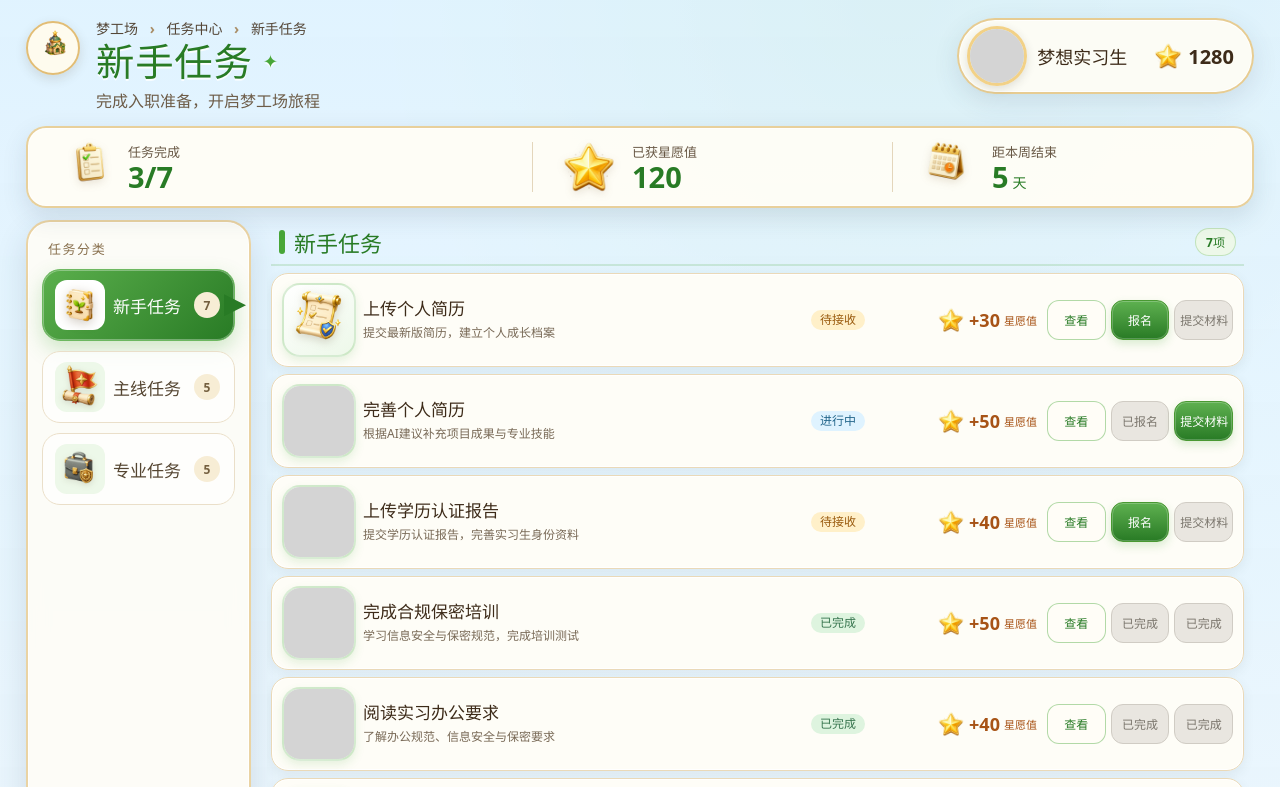
it: TaskCenterPage › submits task materials and marks an in-progress task as completed
Click the button "提交材料" in the row of "进行中".
click(1204, 421)  # box [1174,401,1233,441]
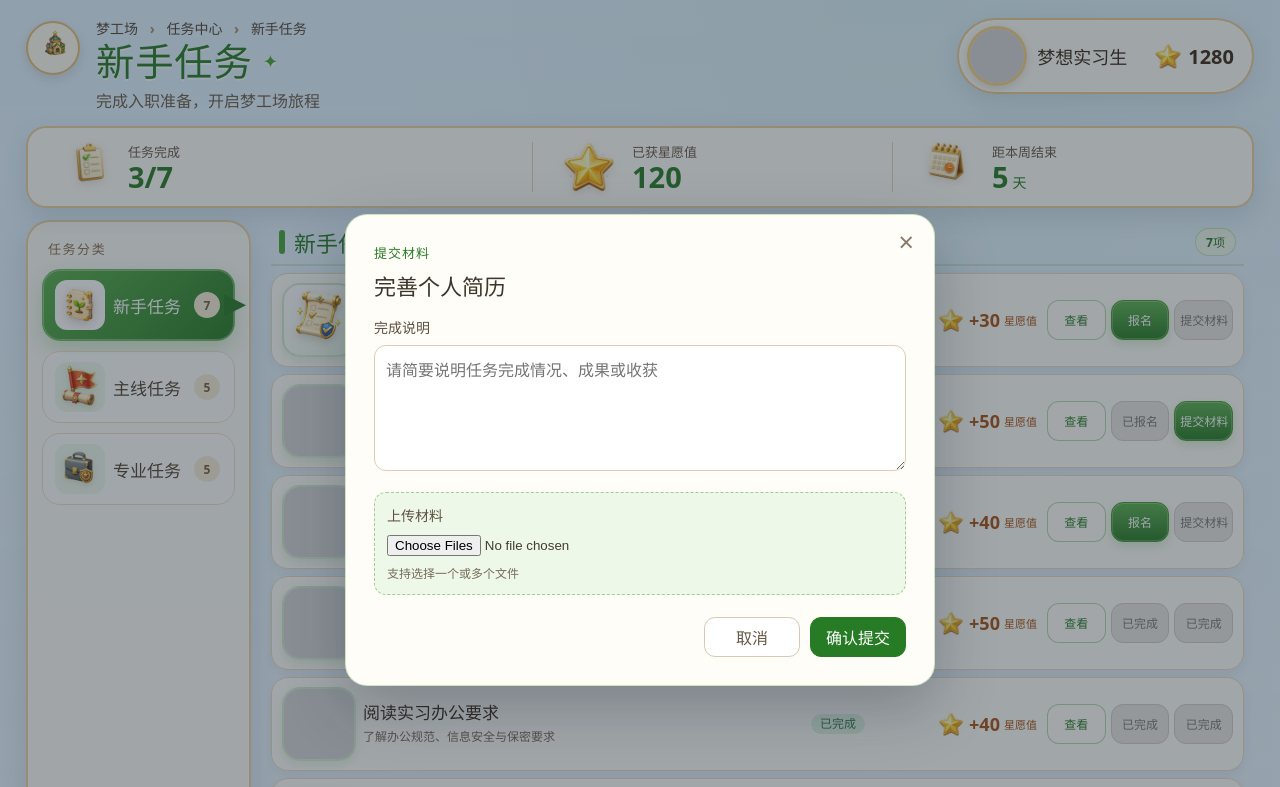
Type "已完成个人简历优化" into the text box labelled "完成说明".
click(640, 408); type("已完成个人简历优化")  # box [374,345,906,471]
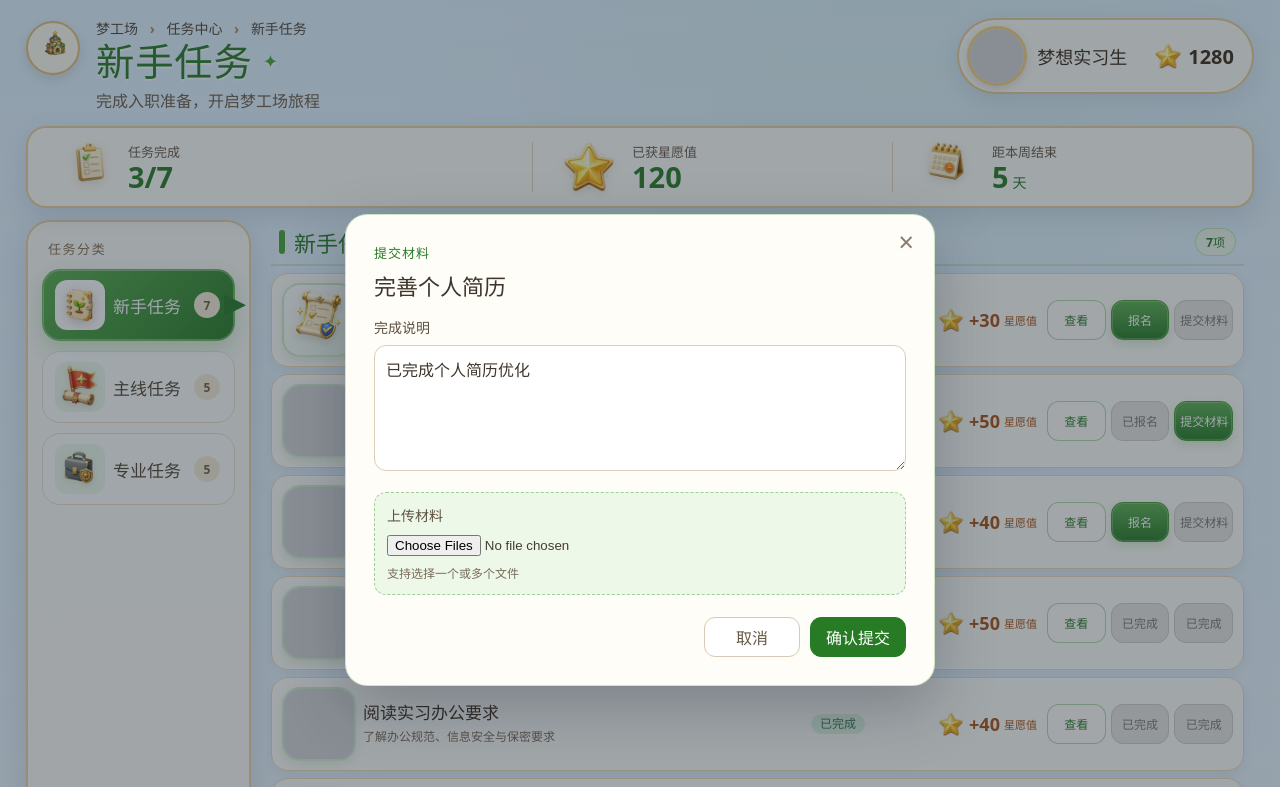
Click the button "确认提交".
click(858, 637)  # box [810,617,906,657]
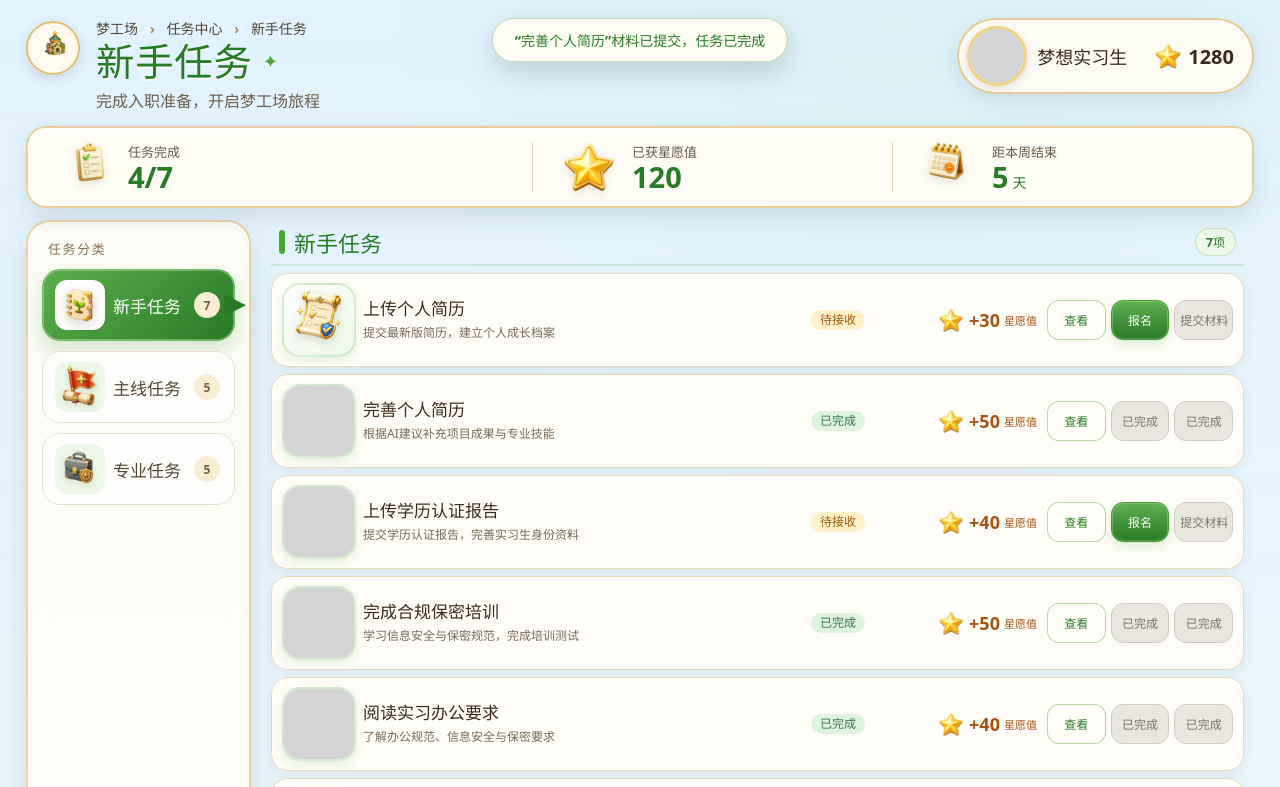
Expected: the element with class "task-row__status" in the row of "根据AI建议补充项目成果与专业技能" reads "已完成", [820,412,856,429]
Expected: the dialog is gone
Expected: the message shows "材料已提交，任务已完成", [515,31,765,50]
